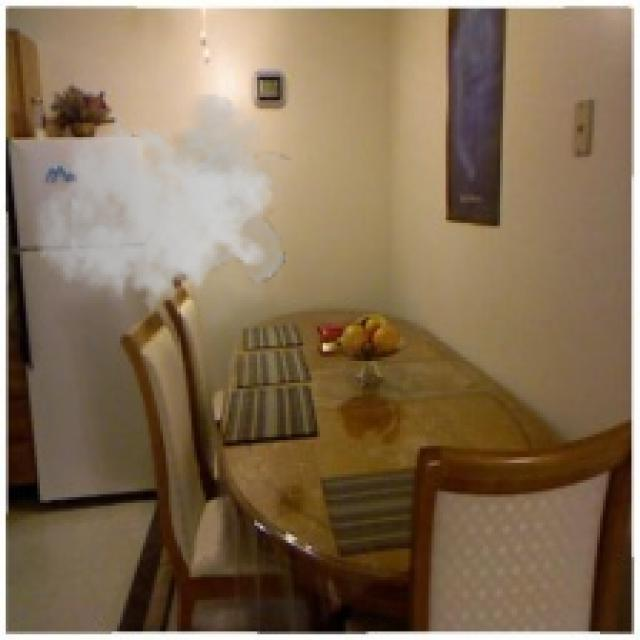Smoke: (35, 94, 292, 323)
